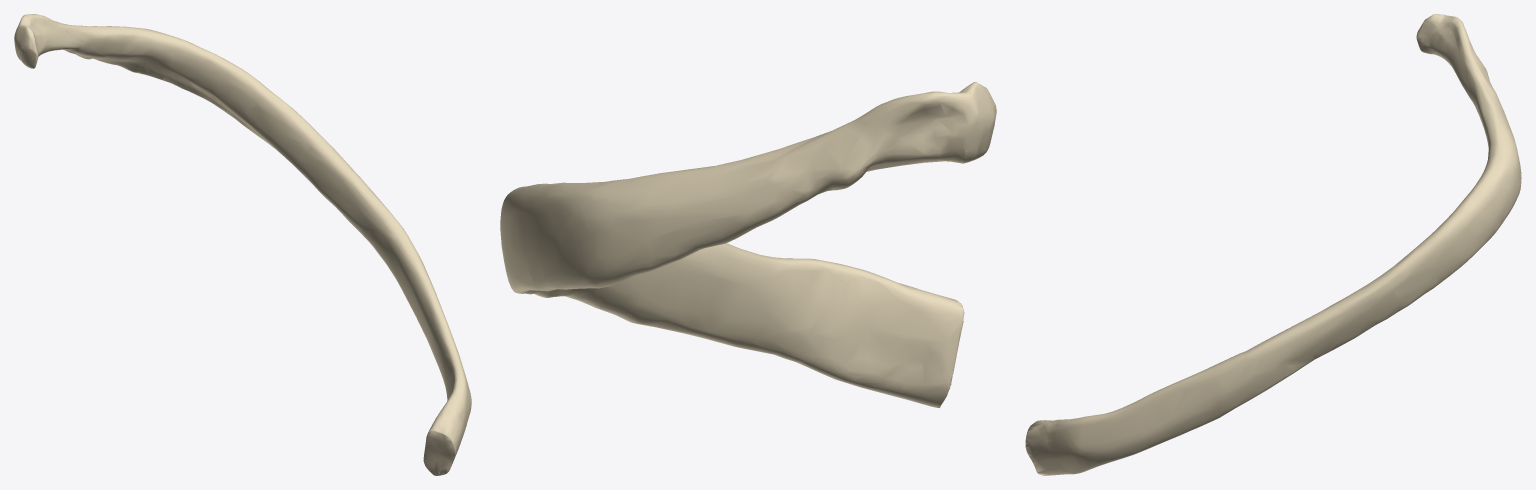
The model's file is esqueleto-seventh-rib-l.glb.
3 renders of one model, left to right at view 1: azimuth 30°, elevation 25°; view 2: azimuth 150°, elevation 25°; view 3: azimuth 270°, elevation 25°, orthographic. The views are drawn at different scales.
Parts seen in each view (by area): view 1: Seventh rib.l; view 2: Seventh rib.l; view 3: Seventh rib.l.
Boxes of the visible parts, left/top/right/bottom form: Seventh rib.l: left=14, top=14, right=471, bottom=475; Seventh rib.l: left=500, top=82, right=996, bottom=407; Seventh rib.l: left=1025, top=14, right=1521, bottom=475.
Bounding box in the file's own units: 0.1252 × 0.1444 × 0.1816.
